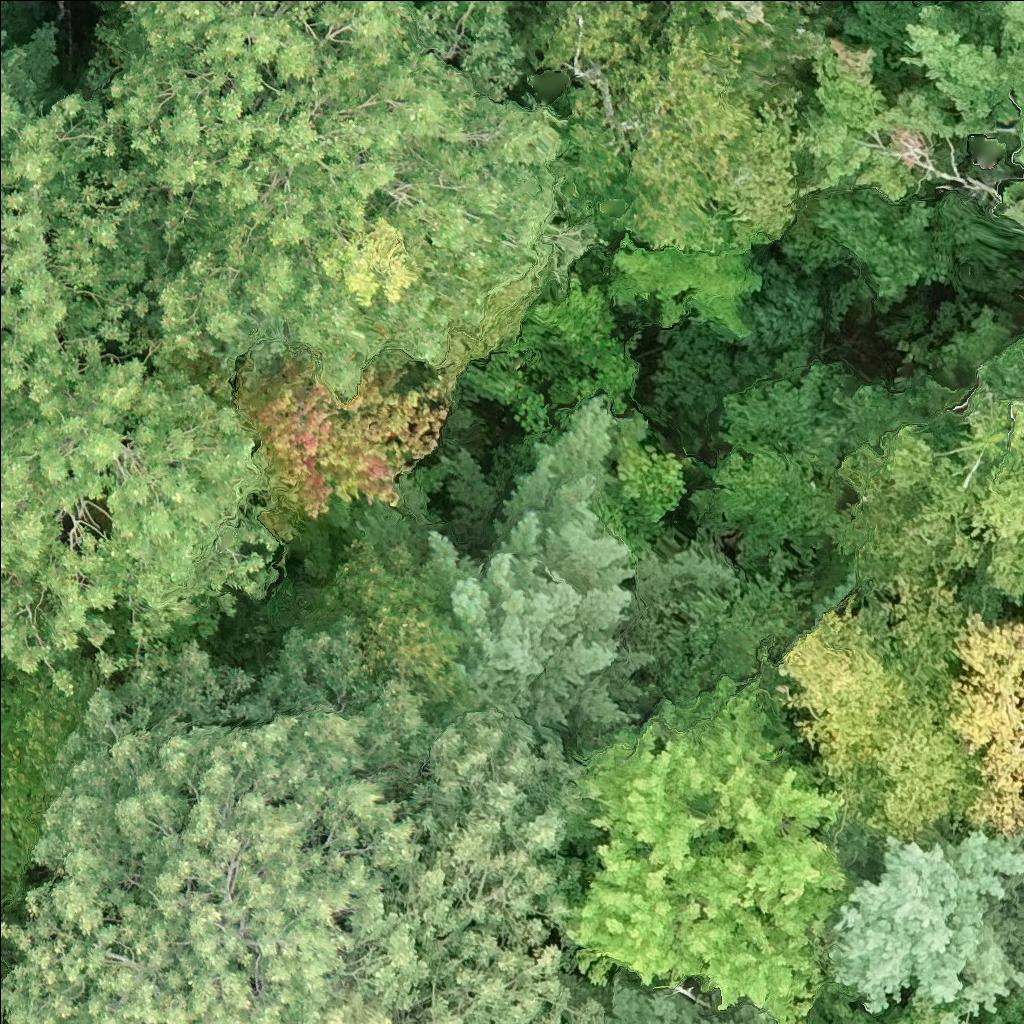crown: (0, 616, 603, 1023), (109, 0, 569, 401), (359, 394, 751, 745), (0, 347, 284, 694), (570, 678, 843, 1023), (691, 305, 1014, 577), (526, 0, 809, 251), (0, 93, 183, 416), (775, 578, 983, 839), (836, 335, 1023, 593), (239, 337, 456, 538), (830, 829, 1023, 1023), (307, 540, 492, 737), (0, 638, 110, 912), (792, 36, 962, 186), (642, 551, 818, 693), (842, 0, 1023, 134), (943, 606, 1023, 834), (666, 0, 830, 107), (596, 408, 686, 562), (977, 396, 1023, 604), (603, 973, 782, 1023), (803, 978, 967, 1023), (577, 339, 635, 414), (0, 31, 35, 101), (980, 0, 1023, 49), (512, 392, 551, 439), (992, 177, 1023, 223), (981, 993, 1023, 1023), (1011, 70, 1023, 165), (673, 980, 709, 1007), (911, 0, 981, 5)
